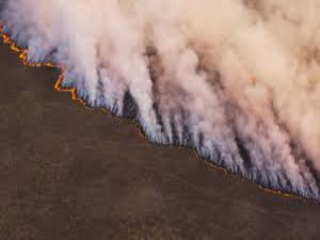smoke: (3, 2, 313, 200)
